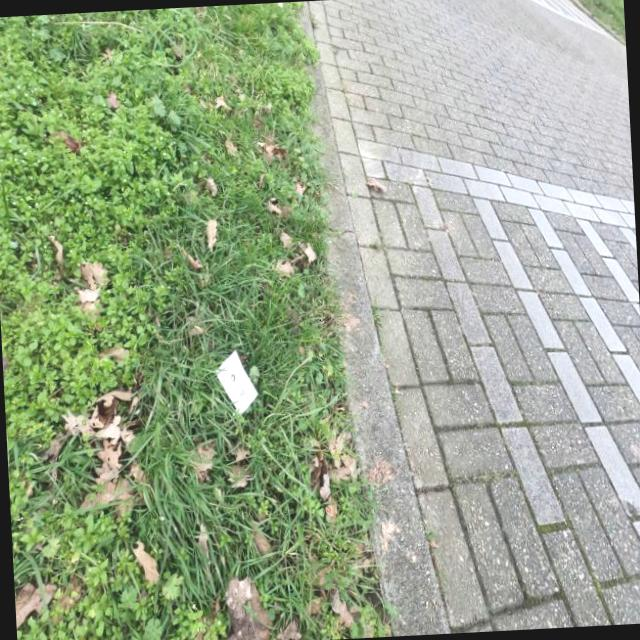Paper: (213, 346, 258, 414)
